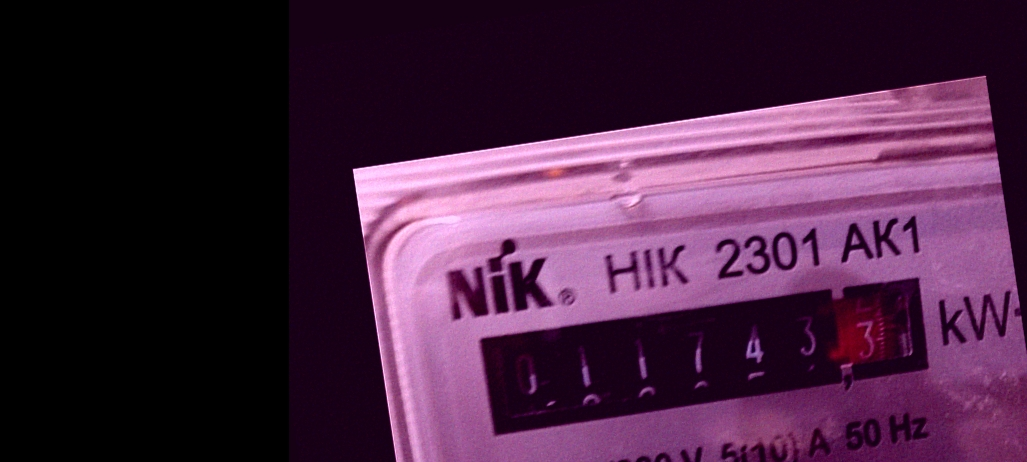0: (509, 349, 544, 399)
1: (627, 333, 655, 384), (573, 342, 597, 392)
3: (790, 310, 825, 361), (851, 316, 882, 363)
4: (736, 317, 771, 369)
7: (683, 327, 714, 378)
screen: (463, 263, 941, 448)
